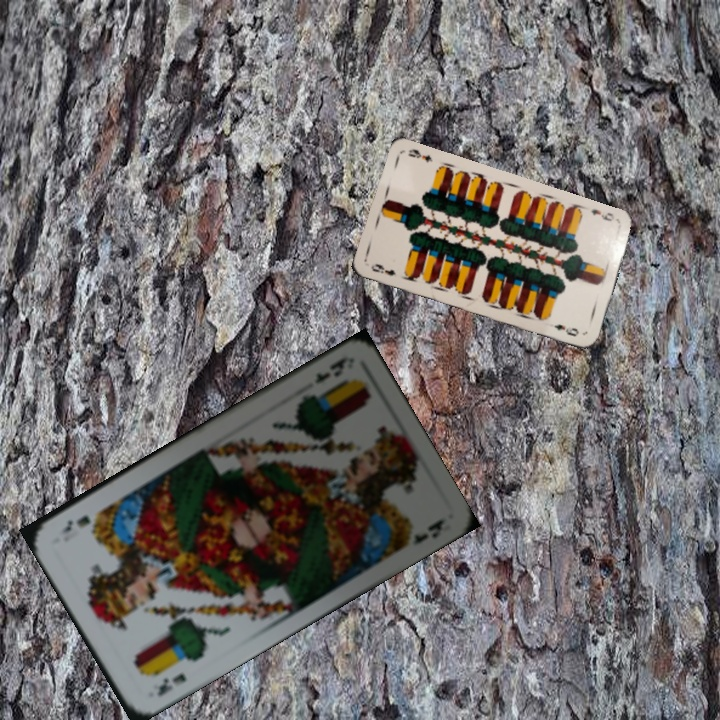E9: (587, 205, 617, 224), (367, 260, 398, 278)
EK: (310, 352, 352, 387), (153, 669, 189, 699)
